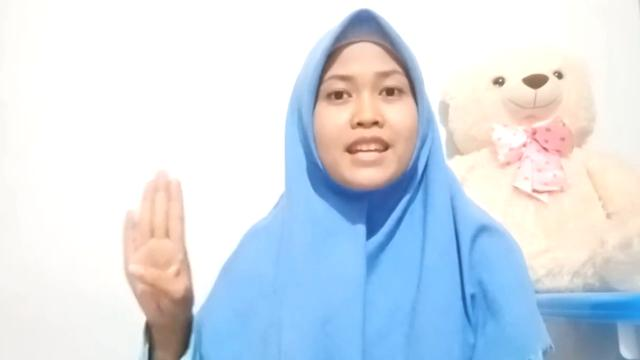B: (121, 168, 195, 326)
